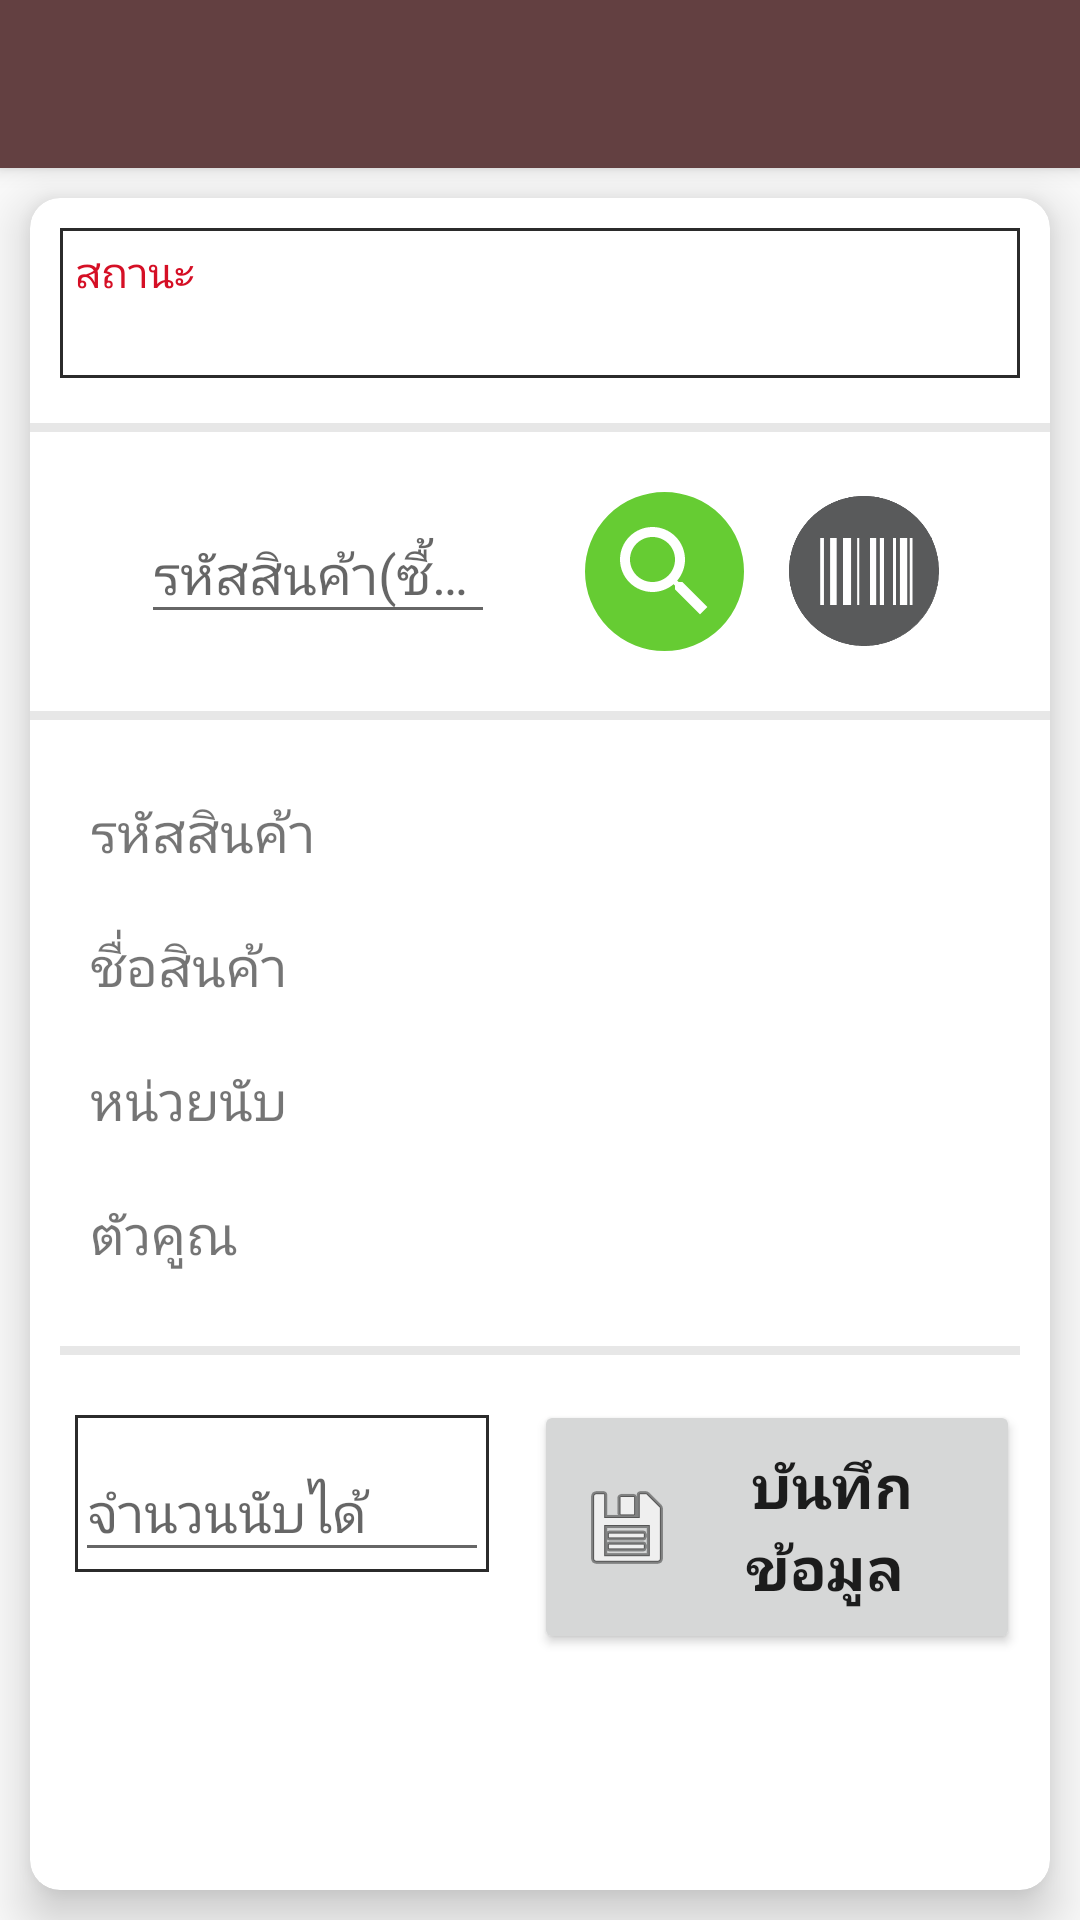

Where to tap for icons on this 1080w x 1920h app screen, as point (x, y):
barcodeicon: point (864, 571)
search: point (664, 571)
